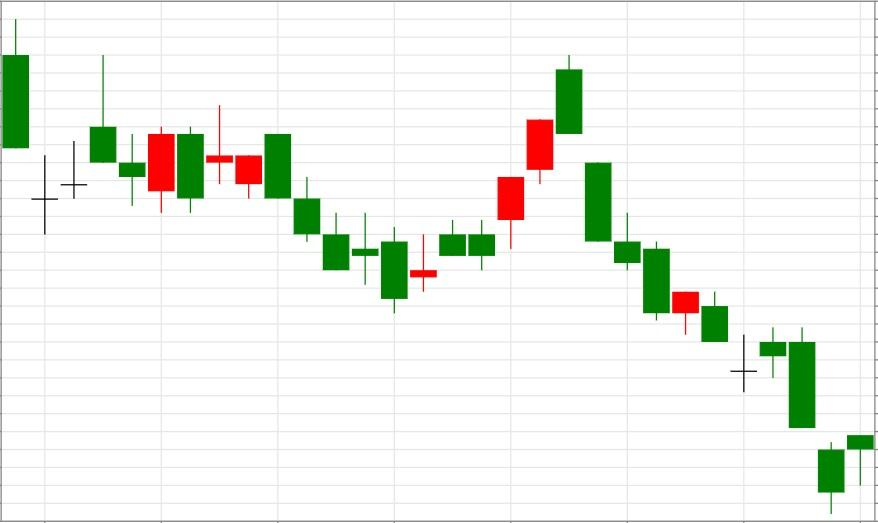three_black_crows_fall: (382, 54, 642, 313), (147, 104, 350, 271)
